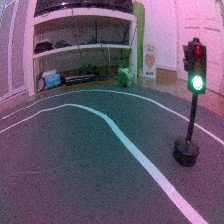green: (173, 35, 209, 170)
